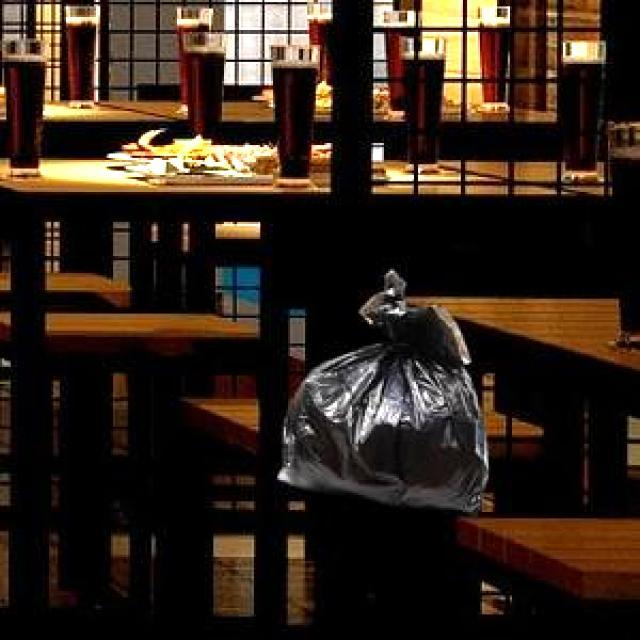Garbage_Bag: (276, 268, 486, 511)
